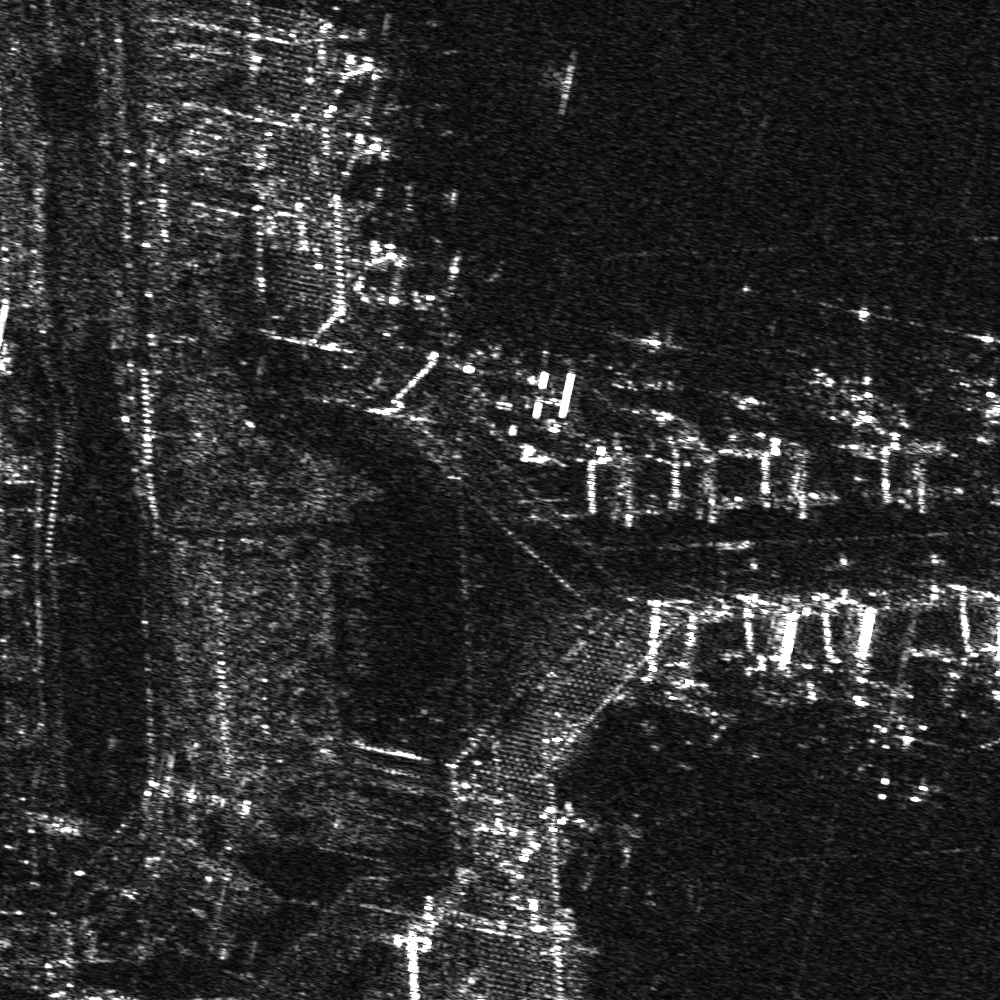A220: (585, 317, 696, 405)
A320/321: (783, 291, 896, 406), (846, 716, 952, 813)
